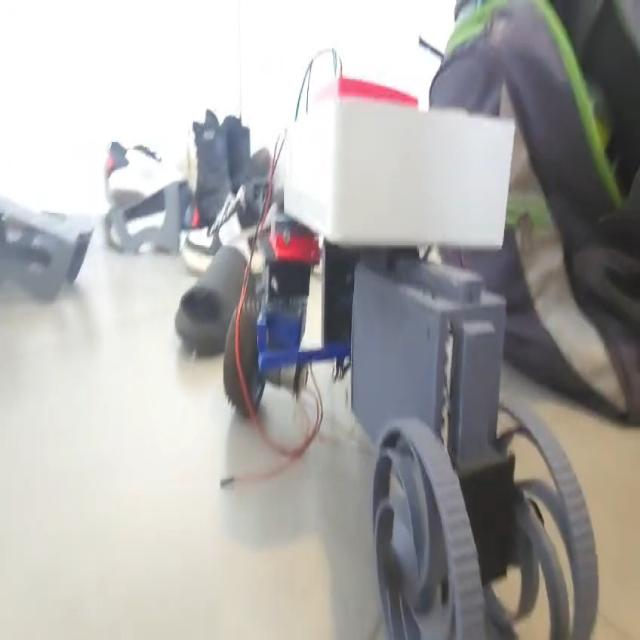Robot: (220, 68, 600, 640)
